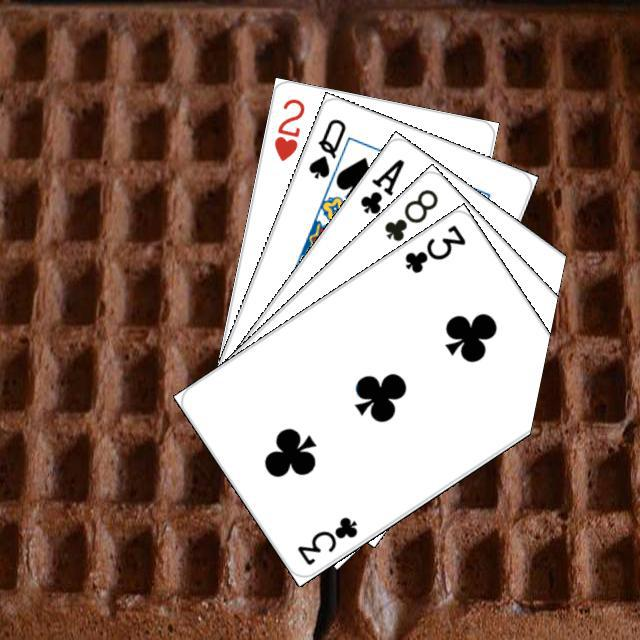2h: (269, 93, 307, 163)
3c: (399, 219, 468, 275), (292, 511, 359, 567)
8c: (379, 184, 440, 243)
Ac: (355, 153, 407, 216)
Qs: (303, 113, 348, 181)
